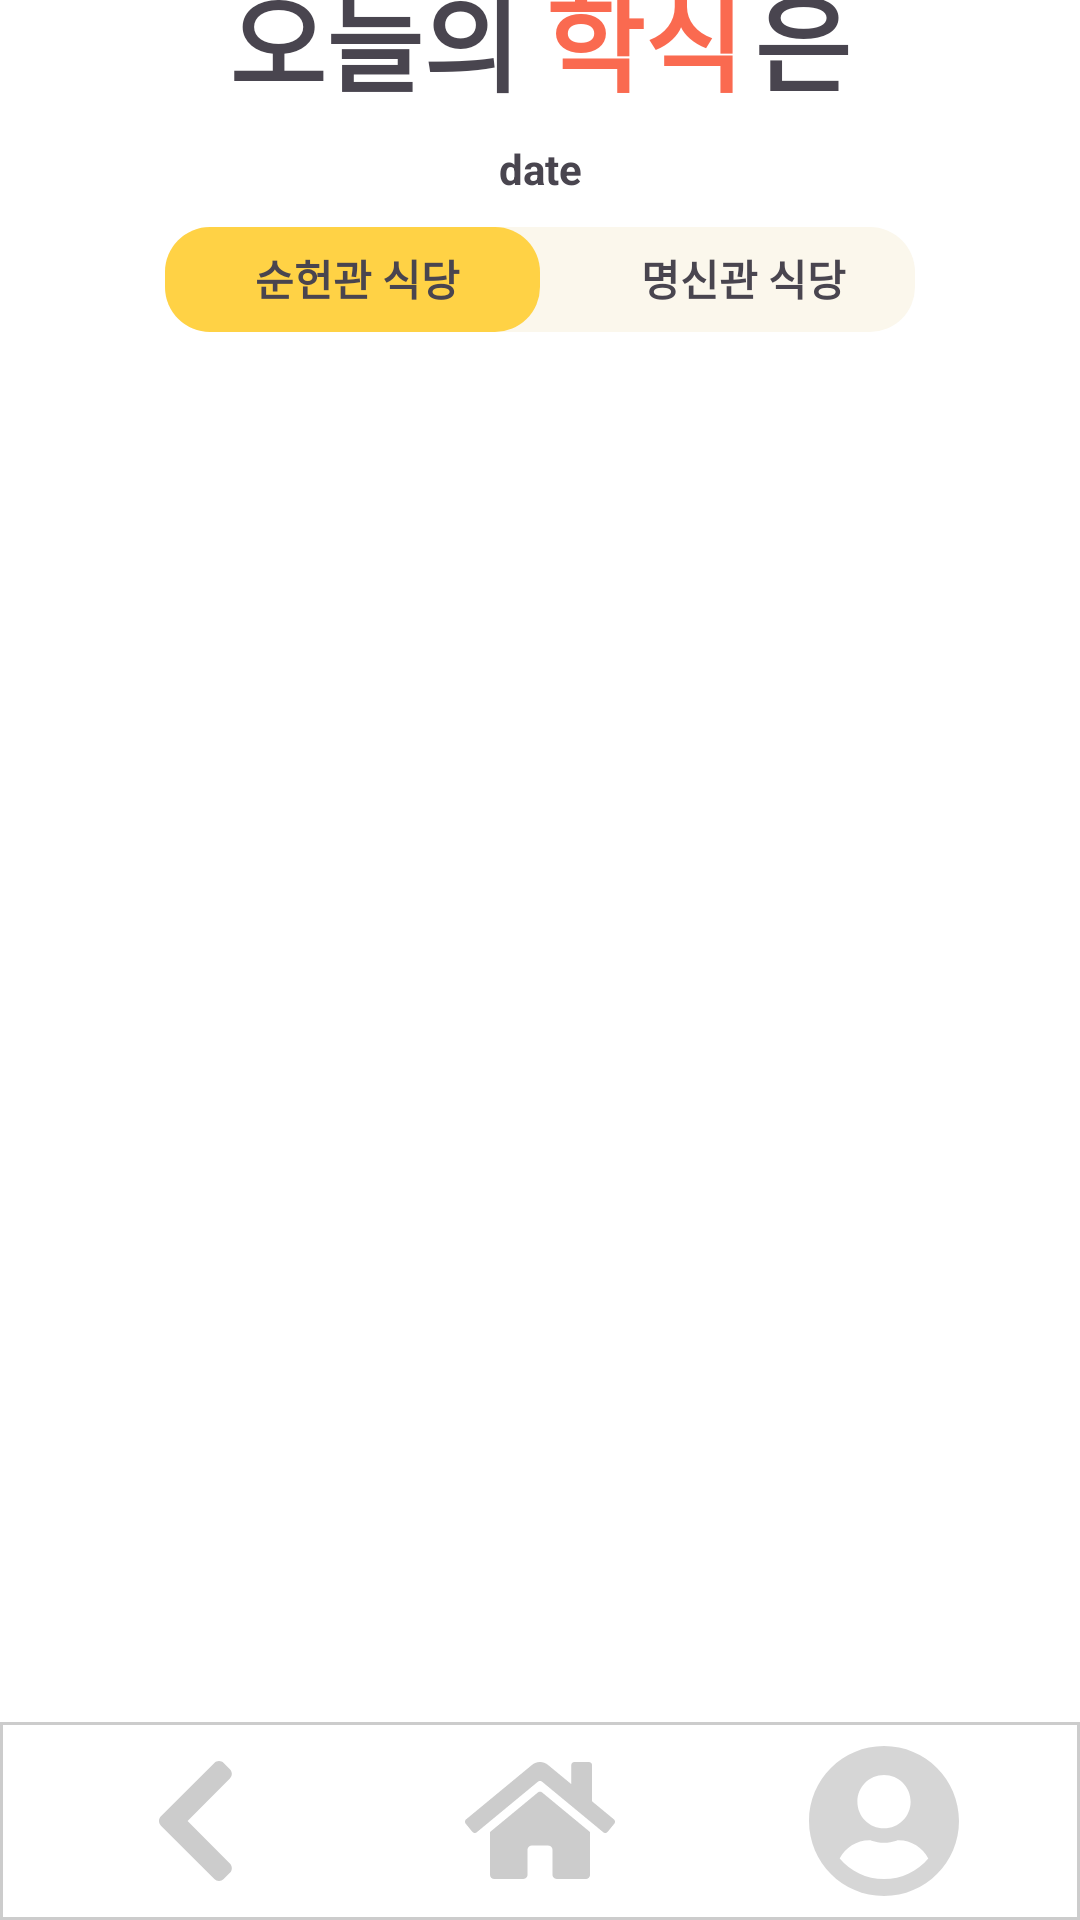

Where icons sit on this 1080px×1920px app screen, as {"left": x1, "top": y1, "right": x2, "bottom": y2}:
Back Button: {"left": 159, "top": 1761, "right": 232, "bottom": 1881}
Home Button: {"left": 465, "top": 1762, "right": 615, "bottom": 1879}
My Page Button: {"left": 809, "top": 1746, "right": 959, "bottom": 1896}
